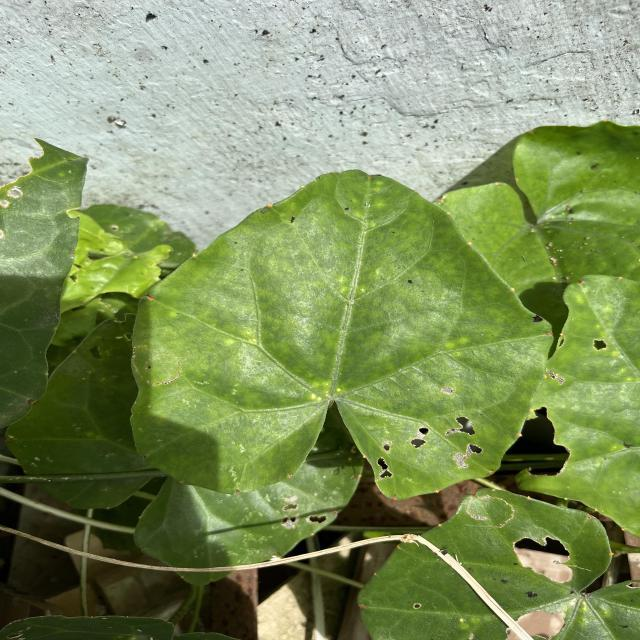Coccinia grandis: (125, 168, 555, 505)
